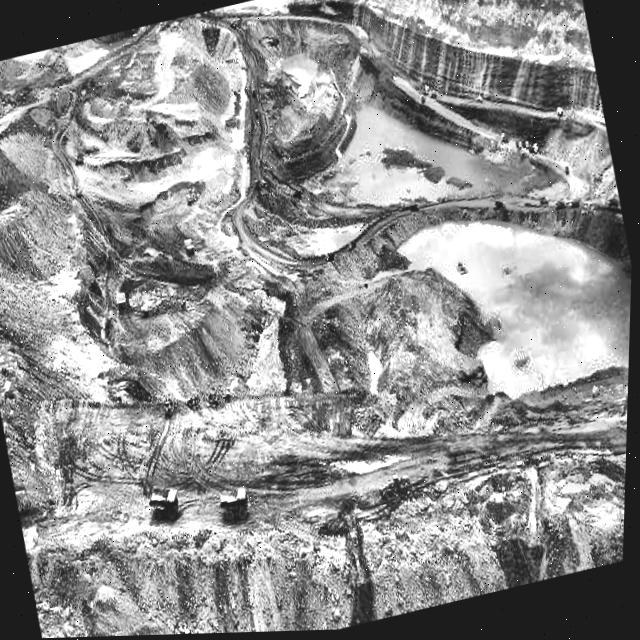dump_truck: (134, 469, 191, 533), (212, 465, 262, 535)
